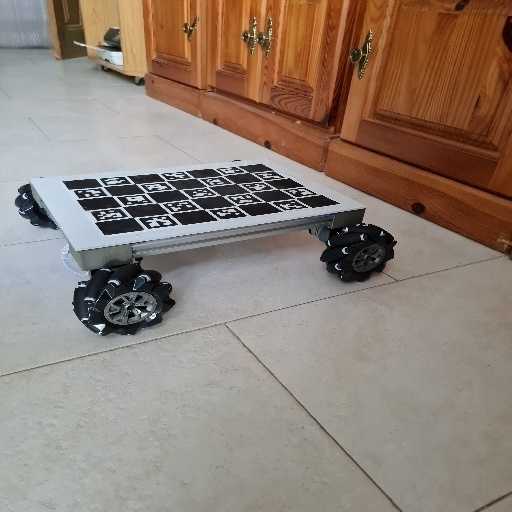Omniwheel: (14, 156, 398, 341)
